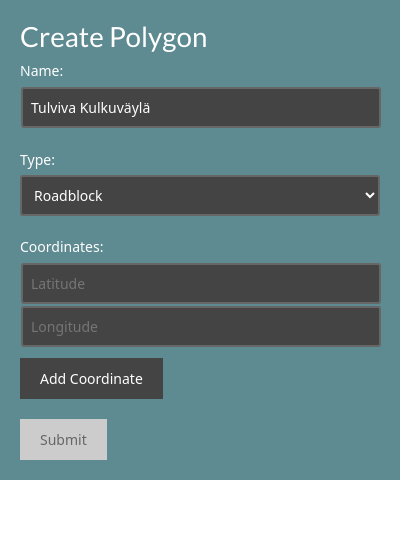
Scenario: invalid polygon name correction removes notification
The image size is (417, 539).
Replace the text in the field labelled "Name:" with "mo" at (201, 108), box [21,87,381,128]
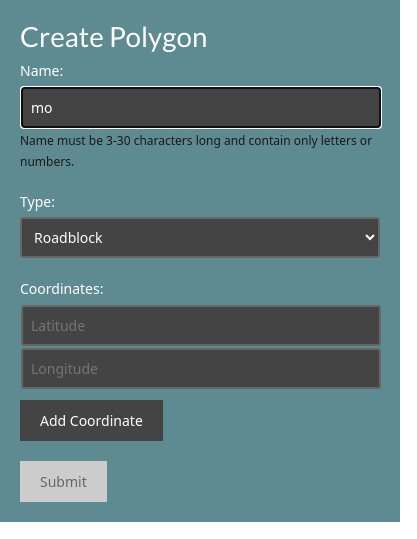
Now the text "Name must be 3-30 characters long and contain only letters or numbers." is shown, box [20,132,372,170]
Type "i" into the field labelled "Name:" at (201, 108), box [21,87,381,128]
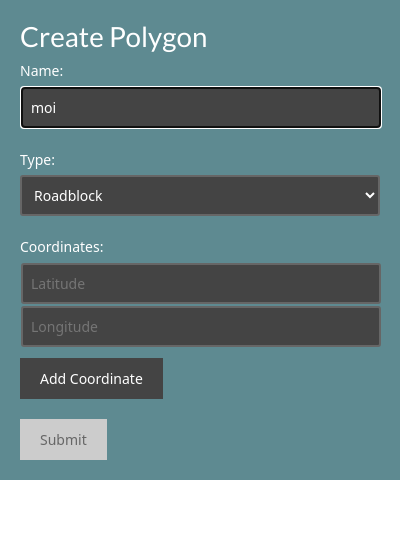
Now the text "Name must be 3-30 characters long and contain only letters or numbers." is gone
